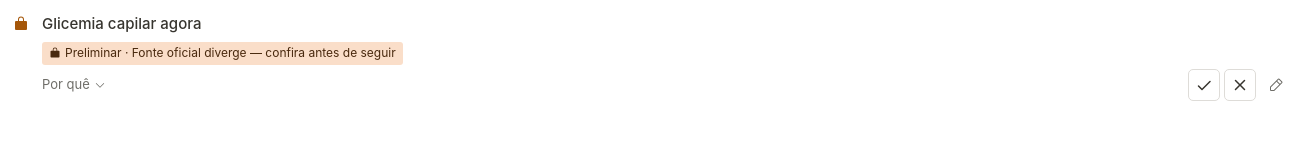
Test case: RecommendationItem — CC-601: linha de por quê › mantém a justificativa quando a fonte oficial diverge: é ela que diz no quê
Click the button "Por quê": point(74, 85) 38,71 -> 110,98
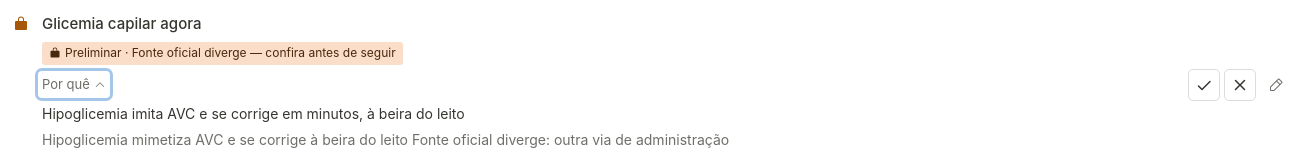
Now the text "Hipoglicemia imita AVC e se corrige em minutos, à beira do leito" is shown, box 42,104 -> 465,122
